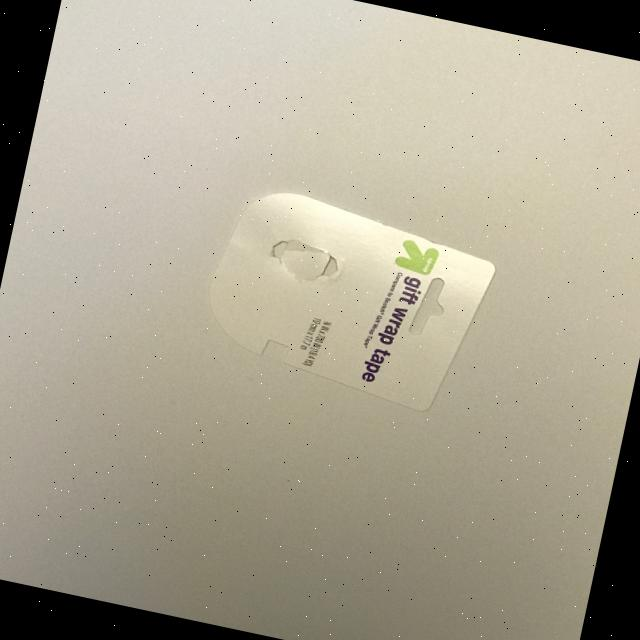paper: (192, 178, 504, 420)
